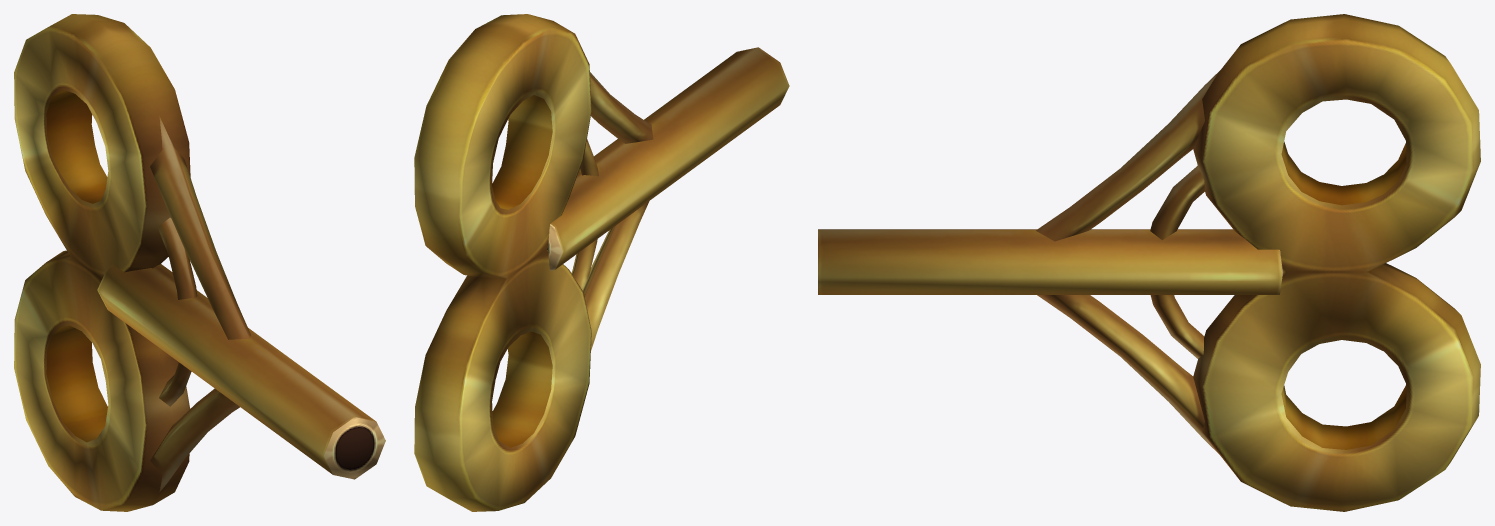
File: BodyBack_0009.fbx
The picture shows the model from 3 angles, left to right: view 1: azimuth 30°, elevation 25°; view 2: azimuth 150°, elevation 25°; view 3: azimuth 270°, elevation 25°; orthographic projection. The views are drawn at different scales.
Parts seen in each view (by area): view 1: BodyBack_0009; view 2: BodyBack_0009; view 3: BodyBack_0009.
Part boxes in pixels (x1,y1,x2,y2): BodyBack_0009: [14, 14, 385, 511]; BodyBack_0009: [414, 14, 789, 511]; BodyBack_0009: [818, 14, 1480, 511].
Bounding box in the file's own units: 6.85 × 49.96 × 61.69.
